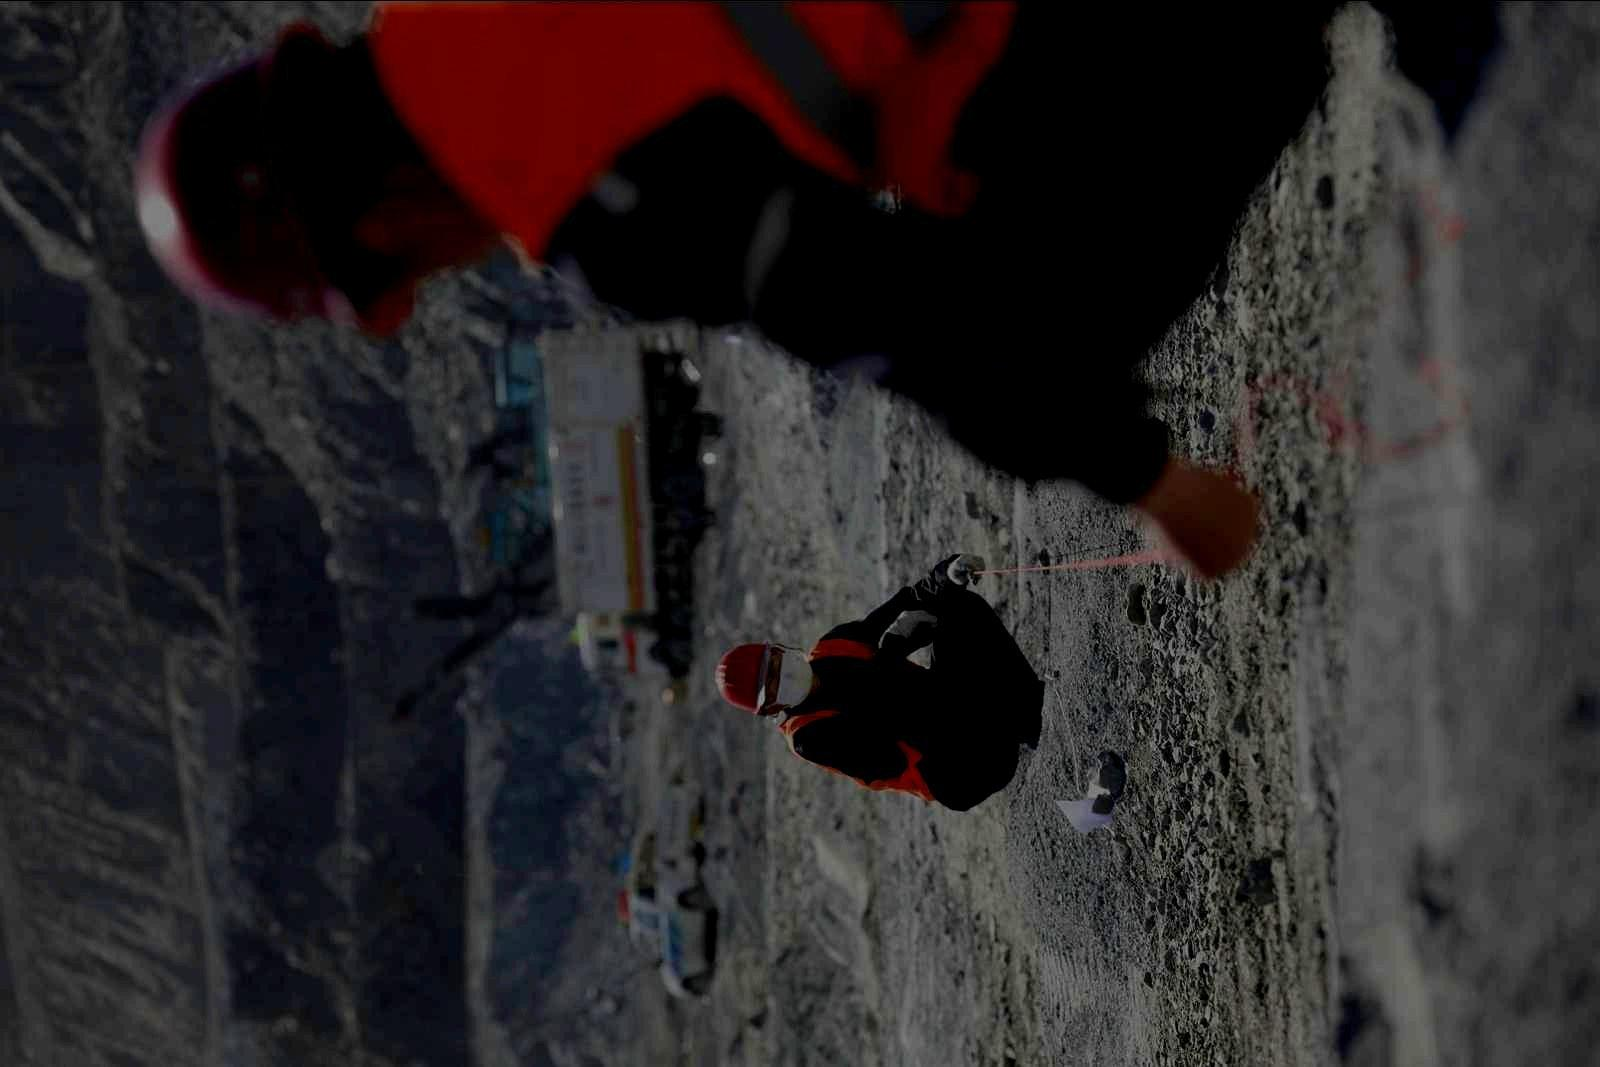helmet: (135, 15, 500, 337), (714, 639, 812, 719)
